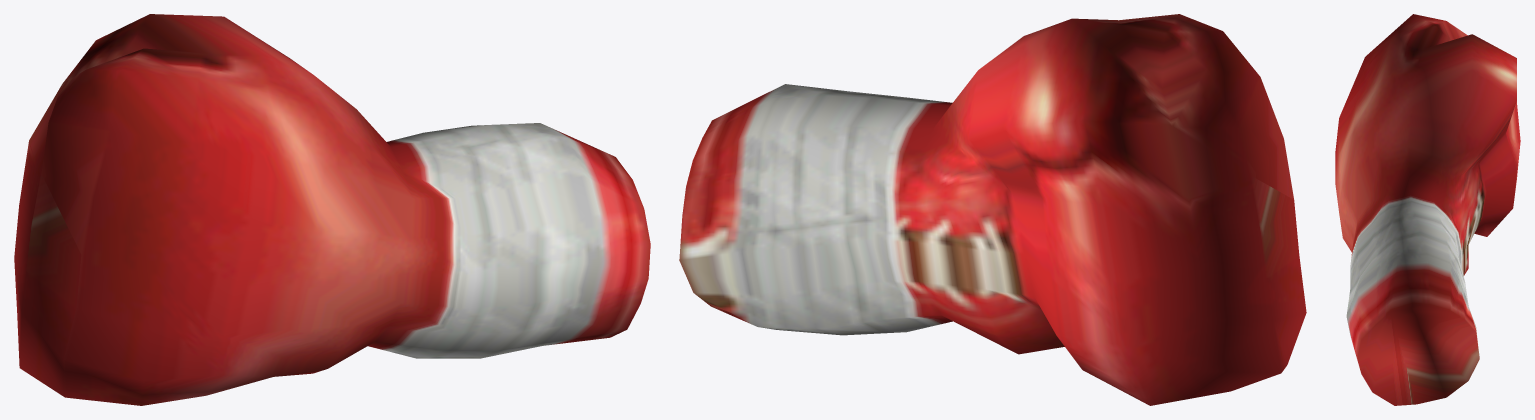
File: normal.ico.obj
3 renders of one model, left to right at view 1: azimuth 30°, elevation 25°; view 2: azimuth 150°, elevation 25°; view 3: azimuth 270°, elevation 25°, orthographic. The views are drawn at different scales.
Size of the model in its own units: 2.9 by 1.85 by 1.25.
Materials: 1 (1 with a texture image).
